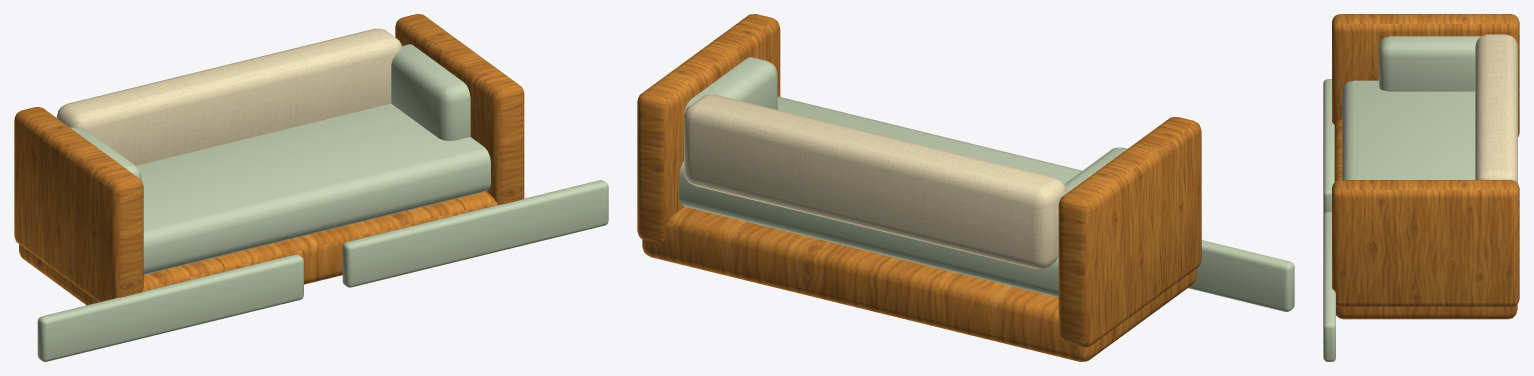
File: daybed.glb
The picture shows the model from 3 angles, left to right: view 1: azimuth 30°, elevation 25°; view 2: azimuth 150°, elevation 25°; view 3: azimuth 270°, elevation 25°; orthographic projection. The views are drawn at different scales.
Visible parts, largest first — view 1: daybed; view 2: daybed; view 3: daybed.
Part boxes in pixels (box(x1,y1,x2,y2)): daybed: box(14, 14, 608, 361); daybed: box(637, 14, 1294, 361); daybed: box(1323, 14, 1519, 361).
Bounding box in the file's own units: 2.75 × 0.72 × 0.9218.
4 materials, 2 textured.
